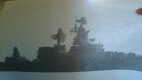tau_muctieu: (1, 17, 142, 72)
